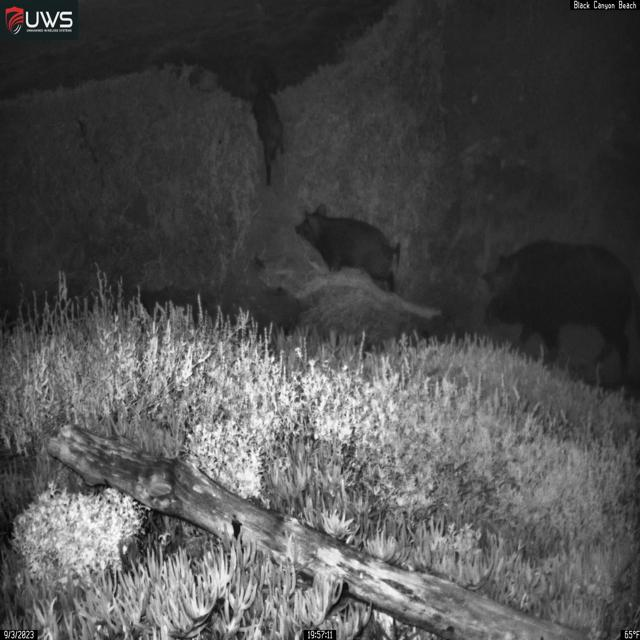pig: (481, 238, 640, 390)
